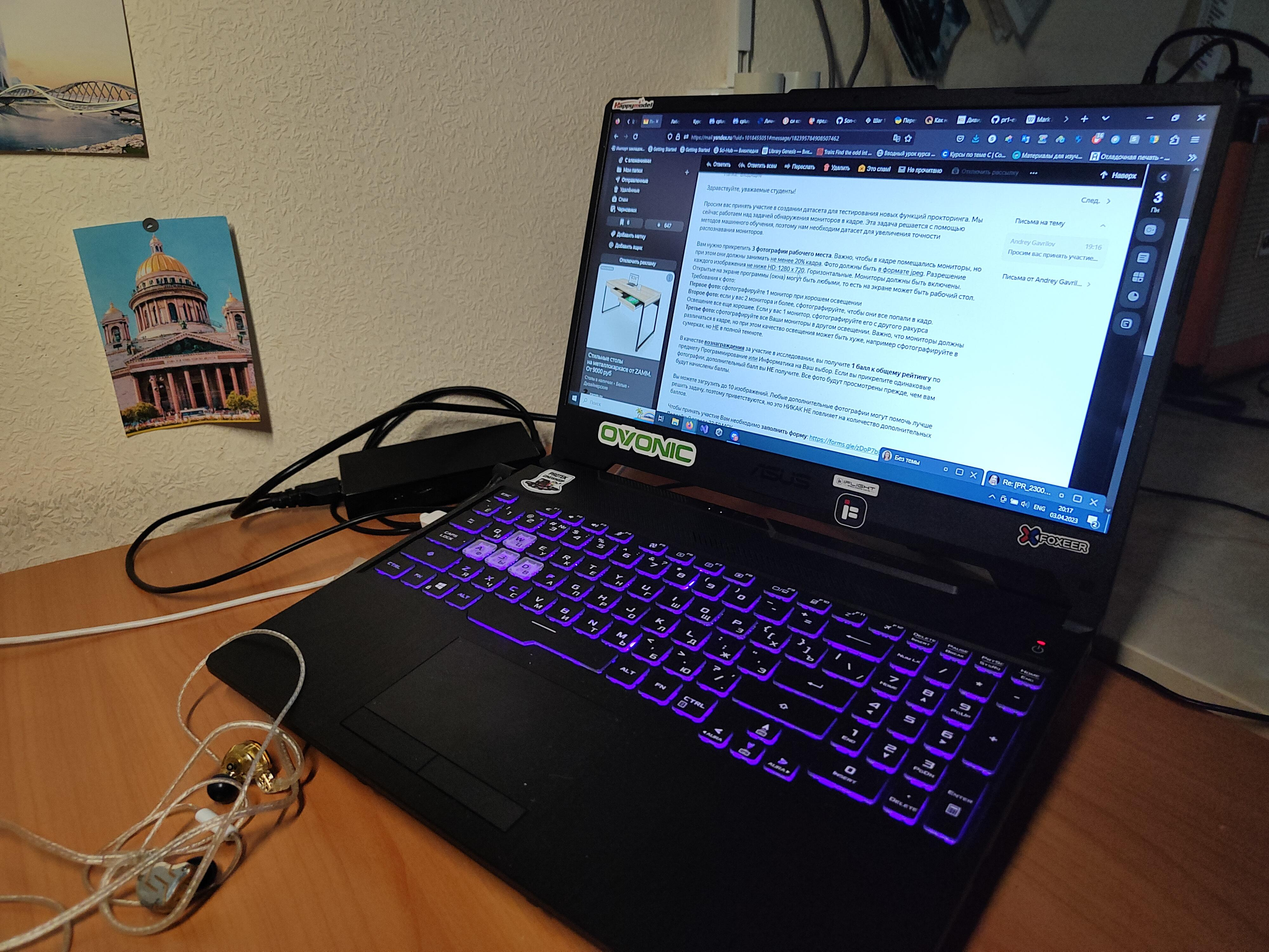monitor: (544, 76, 1245, 612)
